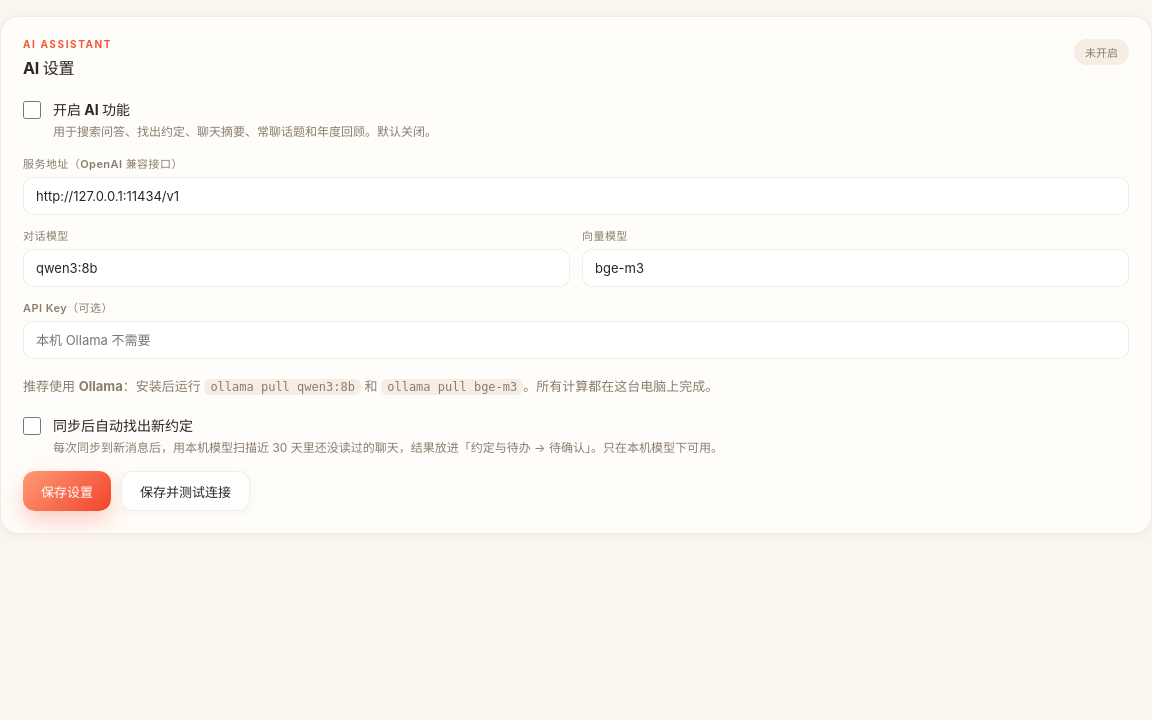
it: AiSettings › requires opting in before testing a cloud endpoint
This screenshot has width=1152, height=720.
Type "https://api.example.com/v1" into the field labelled "服务地址（OpenAI 兼容接口）". click: [576, 196]
box: [23,177,1129,215]
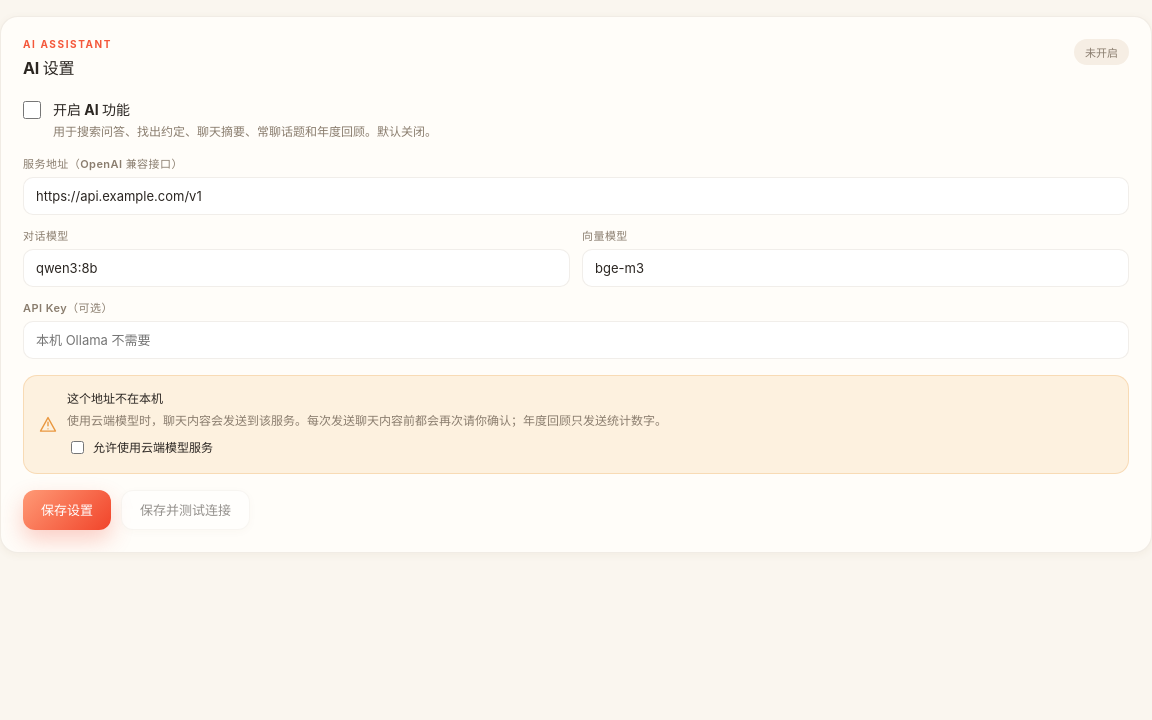
Expected: the text "这个地址不在本机" is shown, [67,391,163,406]
Expected: the button "保存并测试连接" is disabled, [121,490,250,530]
Click the checkbox labelled "允许使用云端模型服务". click: [78, 448]
box: [71,442,84,454]
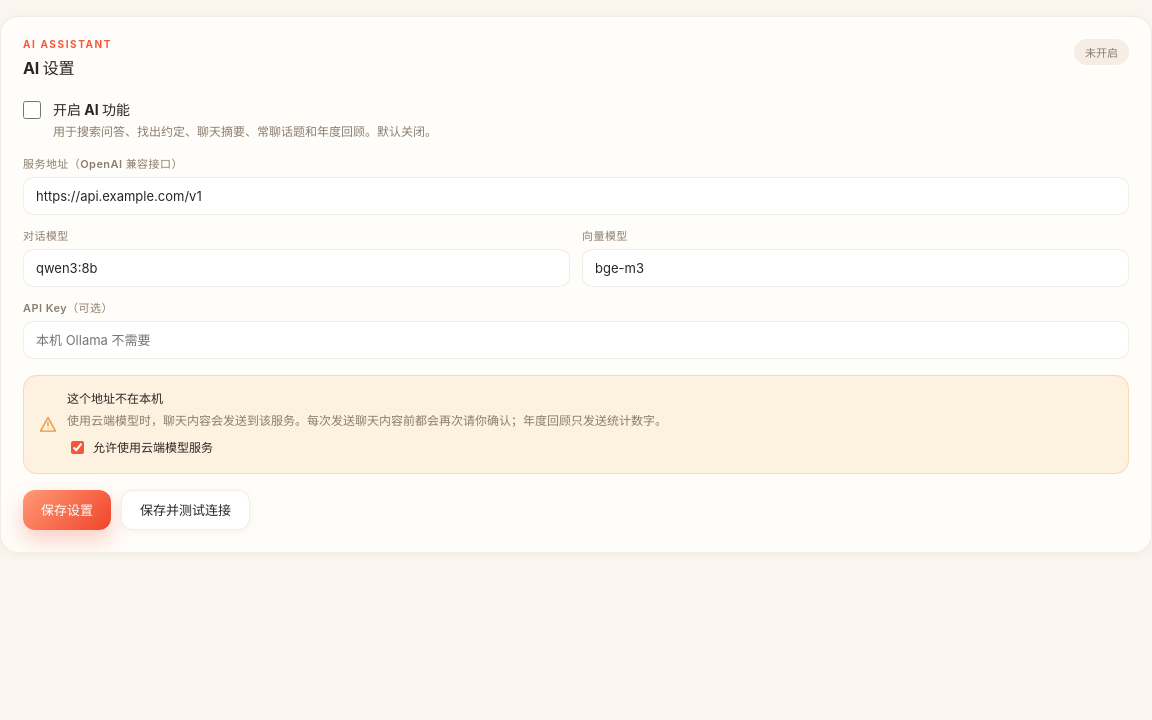
Expected: the button "保存并测试连接" is enabled, [121,490,250,530]
